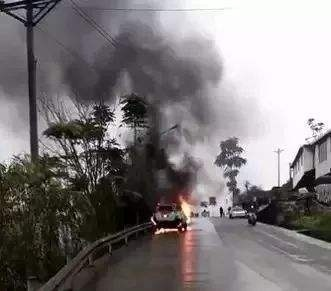fire: (152, 193, 195, 233)
